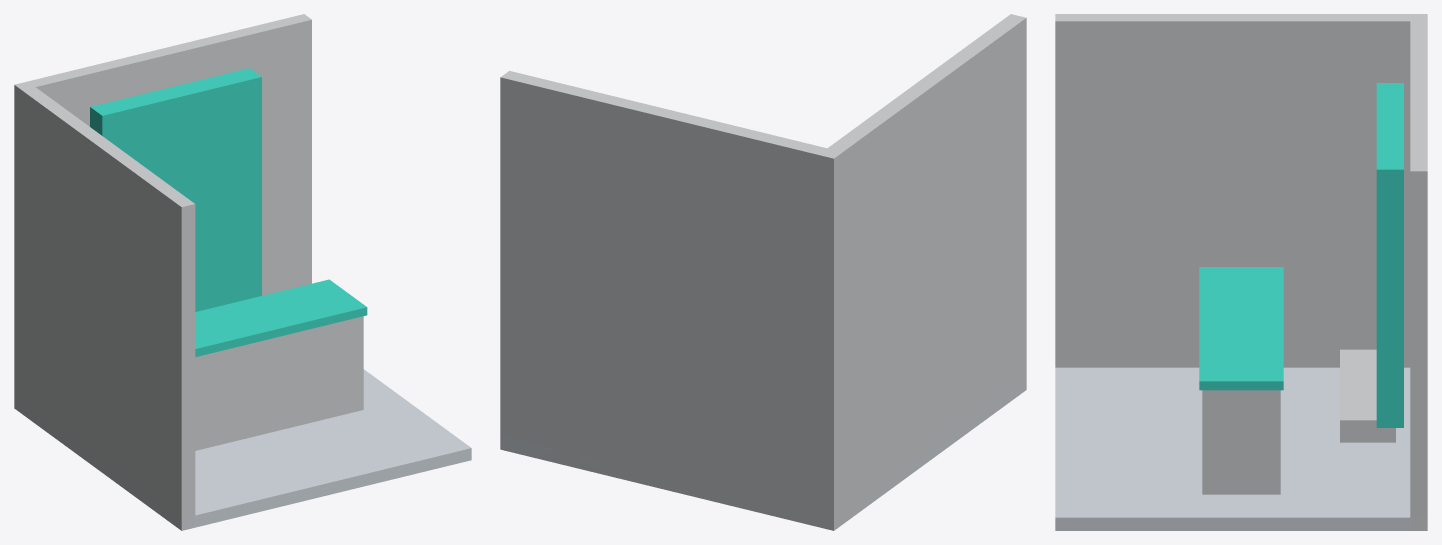
3 views of the same model, side by side, from view 1: azimuth 30°, elevation 25°; view 2: azimuth 150°, elevation 25°; view 3: azimuth 270°, elevation 25° (orthographic). The views are drawn at different scales.
Parts seen in each view (by area): view 1: Exhibition Booth Concept; view 2: Exhibition Booth Concept; view 3: Exhibition Booth Concept.
Boxes of the visible parts, x1,y1,x2,y2 form: Exhibition Booth Concept: [14, 14, 471, 530]; Exhibition Booth Concept: [500, 14, 1026, 530]; Exhibition Booth Concept: [1055, 14, 1427, 530].
Size of the model in its own units: 3 by 3.2 by 3.
